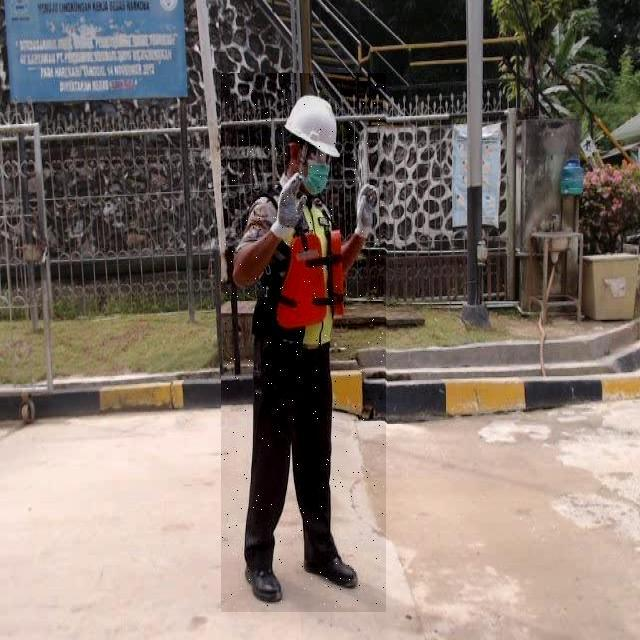Gloves: (263, 165, 314, 253), (348, 174, 385, 251)
Helmet: (283, 91, 348, 163)
Person: (204, 75, 401, 630)
Safety Boot: (302, 542, 369, 595), (244, 561, 291, 613)
Safety Vest: (262, 192, 356, 353)
